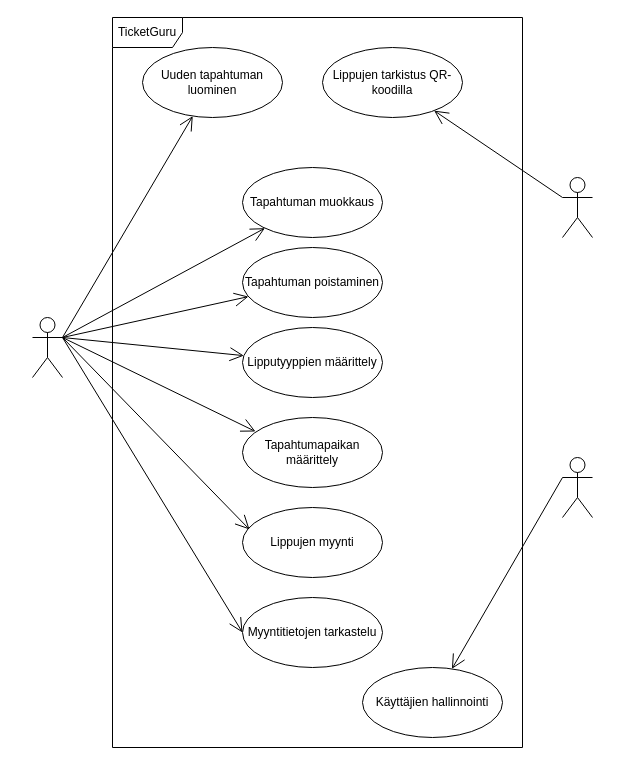
The diagram is 635 pixels wide and 765 high, and some of its shapes have lost their labels. Here are the shapes that lost their labels. From the top down, the box of each, then its label:
(562, 176, 592, 238): Lipuntarkastaja
(32, 316, 62, 378): Lipunmyyjä
(562, 456, 592, 518): Admin-käyttäjä
